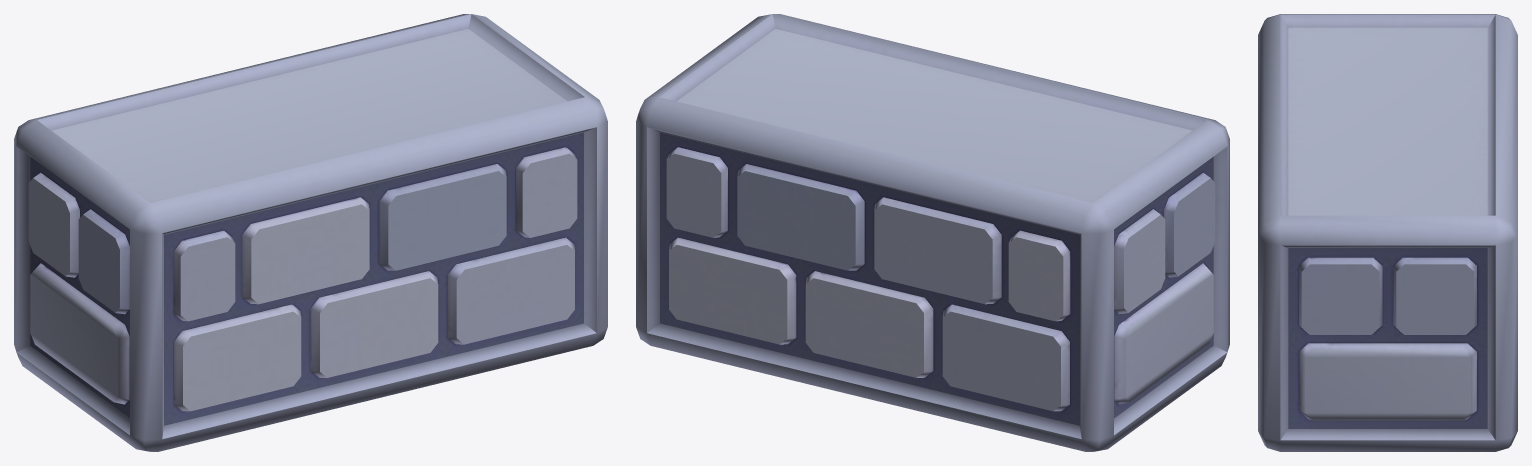
File: tas2.glb
3 views of the same model, side by side, from view 1: azimuth 30°, elevation 25°; view 2: azimuth 150°, elevation 25°; view 3: azimuth 270°, elevation 25° (orthographic). The views are drawn at different scales.
Parts seen in each view (by area): view 1: tas2; view 2: tas2; view 3: tas2.
Part boxes in pixels (bbox=[...]): tas2: bbox=[14, 14, 607, 451]; tas2: bbox=[636, 14, 1229, 451]; tas2: bbox=[1258, 14, 1517, 451].
Size of the model in its own units: 3.07 by 1.53 by 1.53.
1 material, 1 textured.
